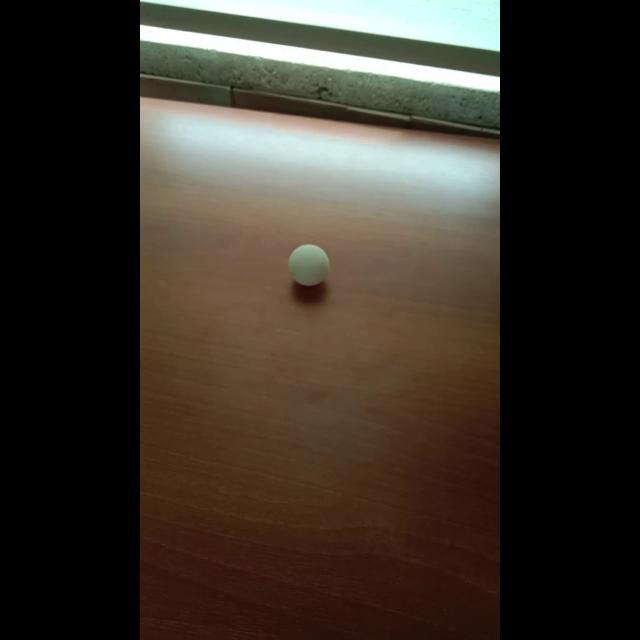white ball: (288, 244, 330, 286)
